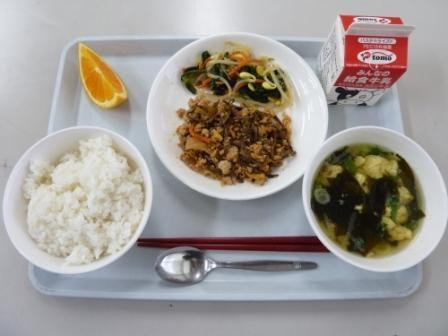Citrus: (66, 36, 132, 115)
Milk: (319, 10, 422, 110)
Rice: (2, 121, 151, 270)
cooked food based on meat: (177, 96, 296, 186)
salad with sauce: (181, 34, 294, 110)
vegetable soup: (306, 133, 447, 277)
